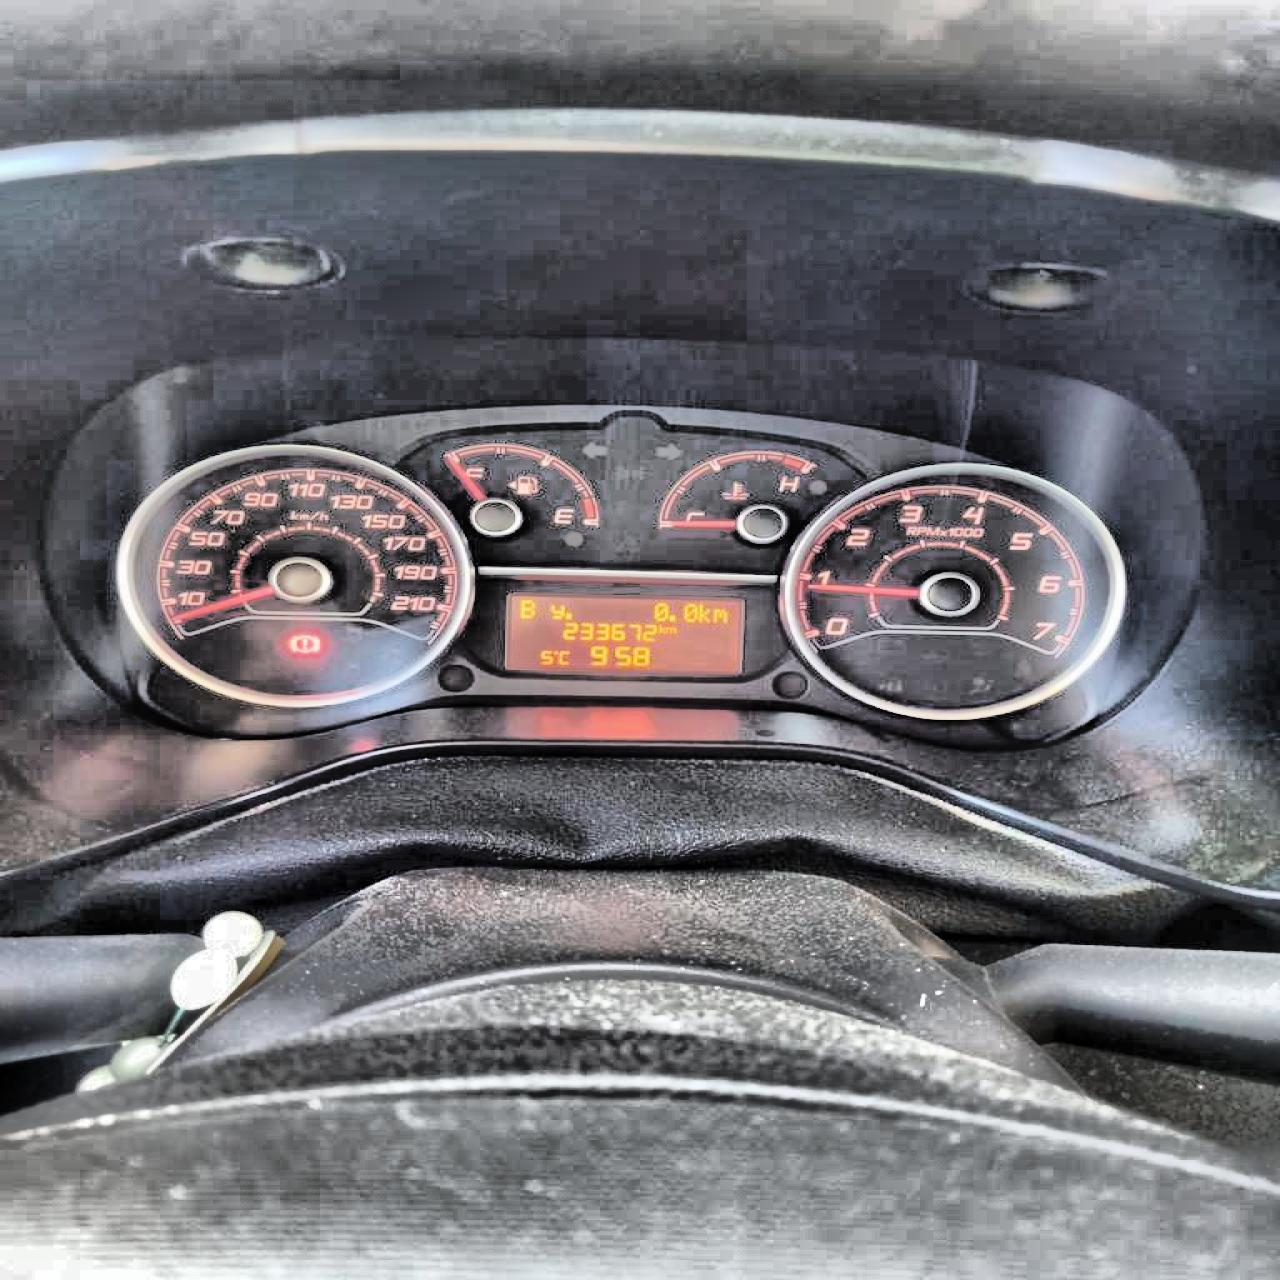-: (667, 614, 675, 621), (564, 611, 570, 619)
0: (681, 601, 696, 622), (652, 601, 667, 621)
2: (560, 621, 577, 639), (641, 622, 655, 640)
3: (578, 621, 592, 639), (593, 622, 607, 640)
5: (612, 645, 631, 666), (538, 648, 552, 663)
6: (610, 621, 624, 640)
7: (625, 622, 640, 640)
8: (632, 645, 648, 666)
9: (588, 644, 607, 665)
X: (517, 598, 536, 619), (696, 601, 710, 622), (549, 602, 564, 619), (712, 607, 727, 622), (557, 649, 568, 665), (665, 625, 675, 634), (659, 622, 663, 633)
odometer: (497, 587, 748, 679)
